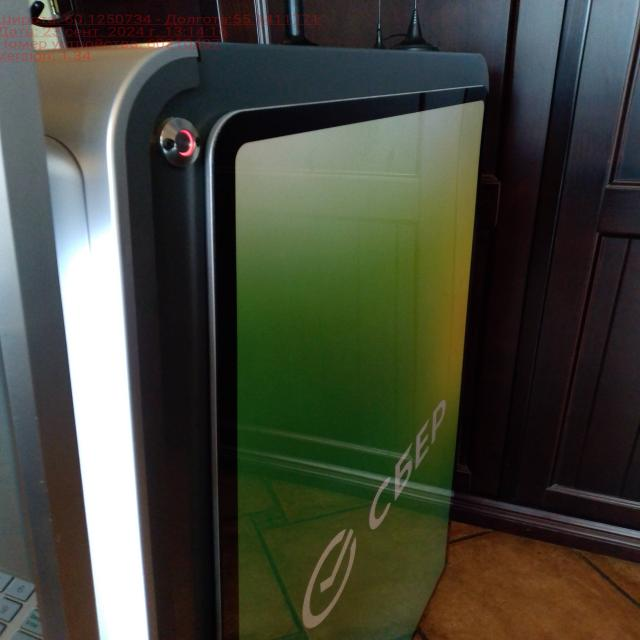bank: (0, 0, 507, 636)
